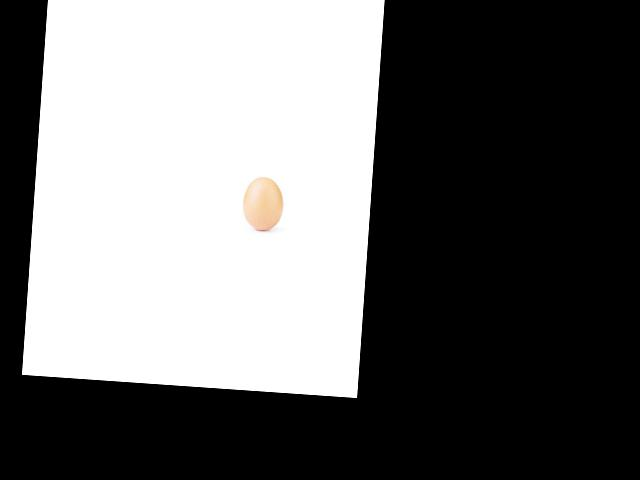egg: (241, 176, 285, 231)
